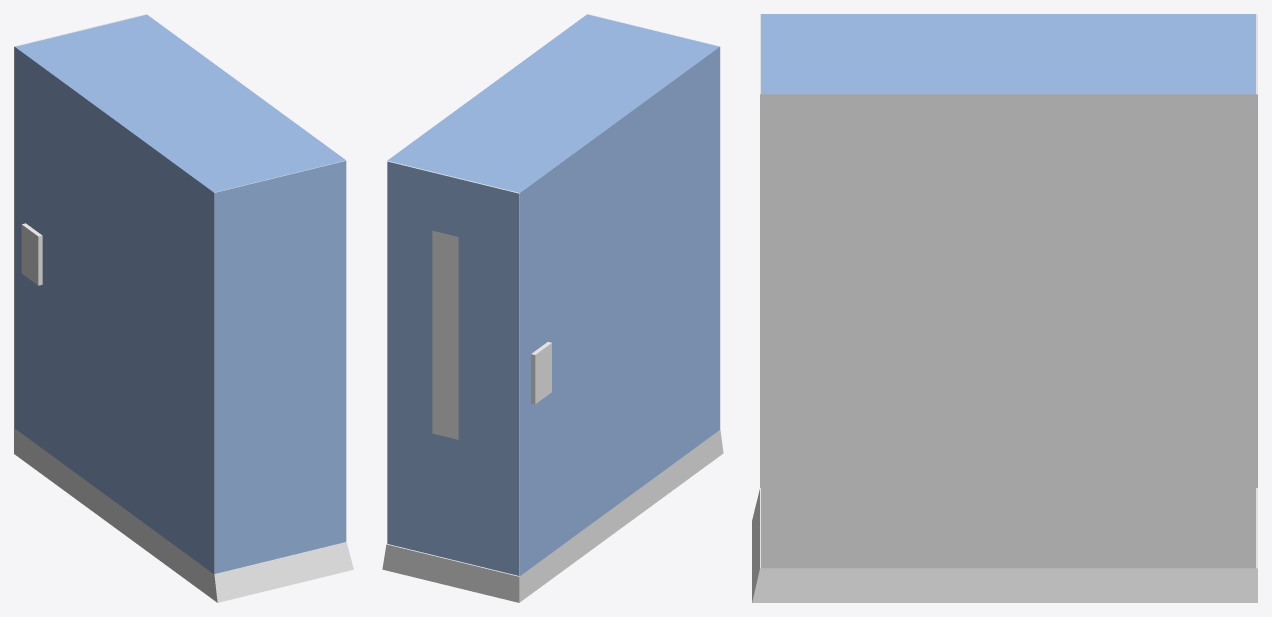
3 renders of one model, left to right at view 1: azimuth 30°, elevation 25°; view 2: azimuth 150°, elevation 25°; view 3: azimuth 270°, elevation 25°, orthographic. The views are drawn at different scales.
Parts seen in each view (by area): view 1: Mesh1_Component_8_1_Model; view 2: Mesh1_Component_8_1_Model; view 3: Mesh1_Component_8_1_Model.
Part boxes in pixels (left/top/right/bottom): Mesh1_Component_8_1_Model: left=14, top=14, right=353, bottom=602; Mesh1_Component_8_1_Model: left=382, top=14, right=723, bottom=602; Mesh1_Component_8_1_Model: left=752, top=14, right=1257, bottom=602.
Bounding box in the file's own units: 0.7571 × 1.9 × 2.1.
